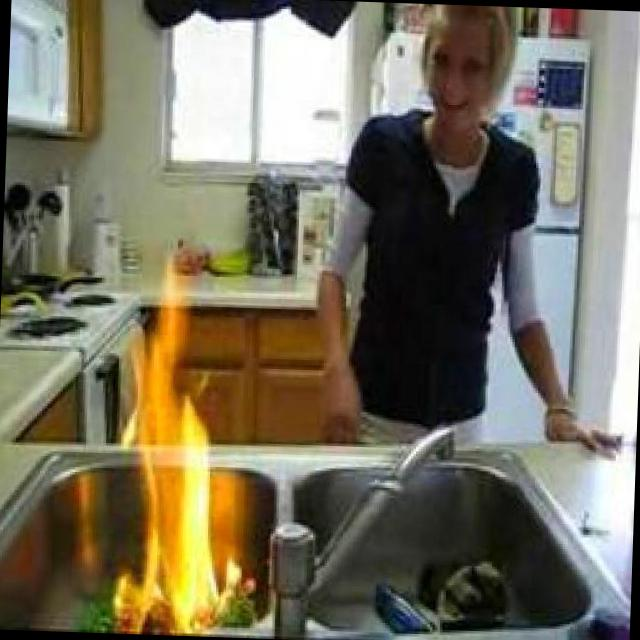Fire: (110, 263, 250, 631)
